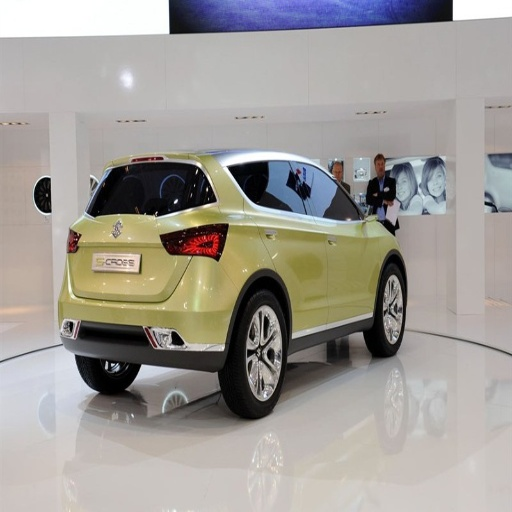back_bumper: (57, 256, 241, 369)
back_right_door: (253, 160, 328, 331)
tailgate: (72, 221, 170, 300)
trunk: (67, 212, 190, 301)
